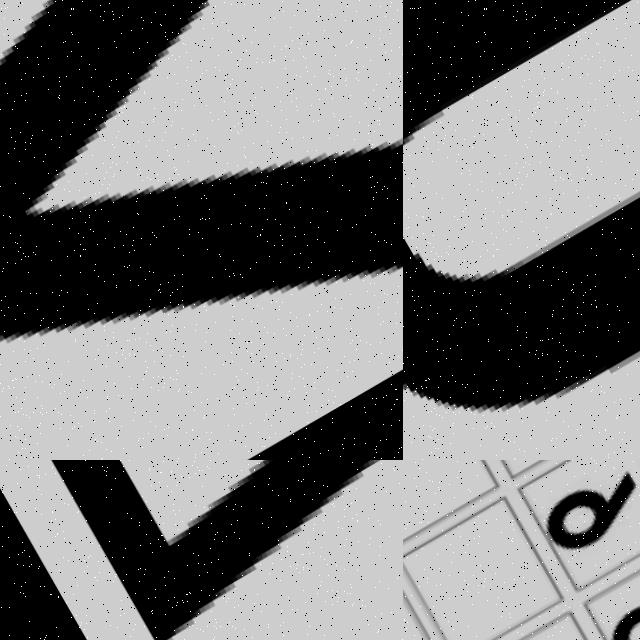5: (599, 569, 640, 640)
6: (536, 460, 640, 559)
L: (0, 460, 403, 640)
U: (403, 0, 640, 460)
V: (0, 0, 403, 460)
